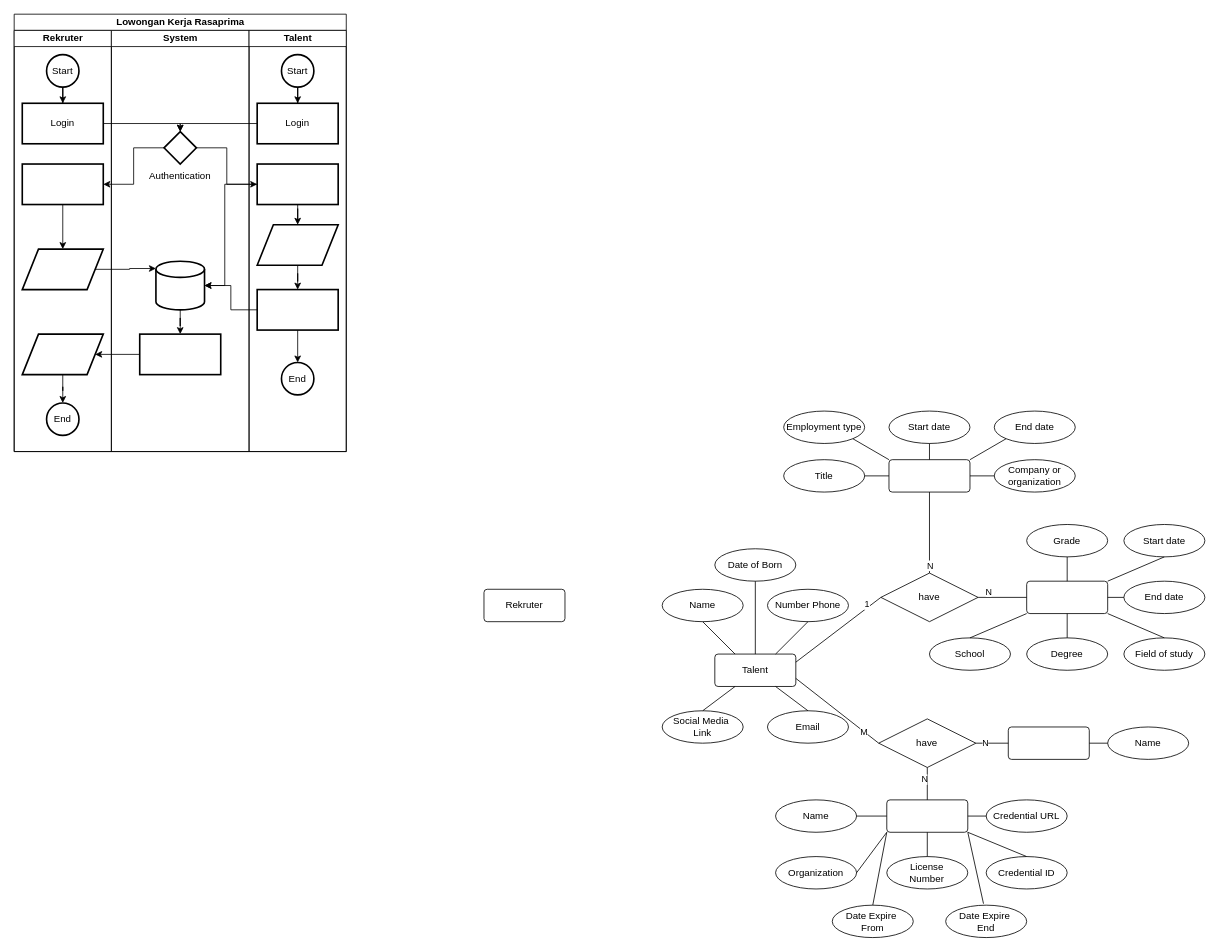
Image size: 1219x952. Some labels were removed from this diagram. Each missing label, with the centre of its shape:
Add Job Vacancy: the point at 62,269
Apply: the point at 297,309
Certification: the point at 927,815
Database: the point at 180,285
Education: the point at 1067,597
Experiences: the point at 929,475
Fill Profile: the point at 297,184
Find Job Vacancy: the point at 297,245
Home Page: the point at 62,184
Select Talent: the point at 62,354
Skills: the point at 1048,742
Sort and Match Talent with Job Vacancy: the point at 180,354
